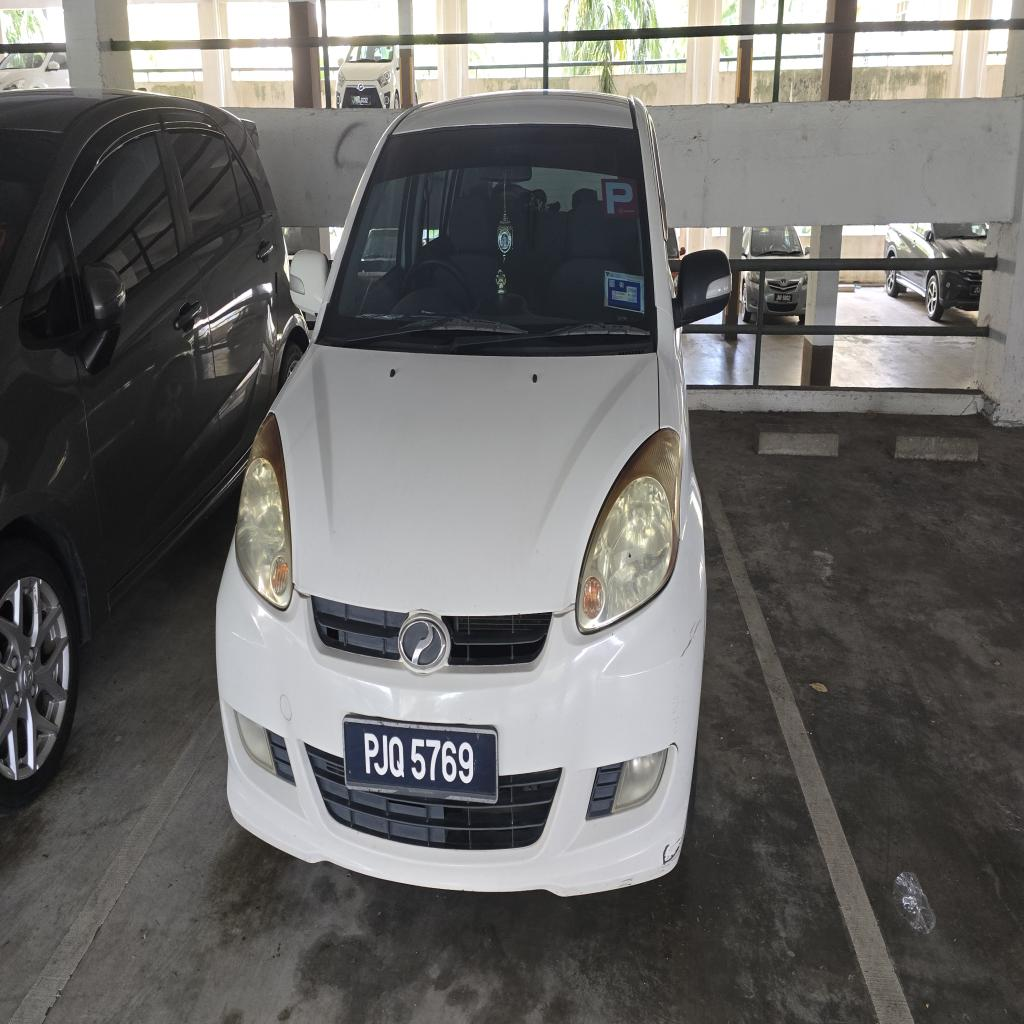car: (217, 92, 731, 894)
car plate: (344, 717, 497, 803)
